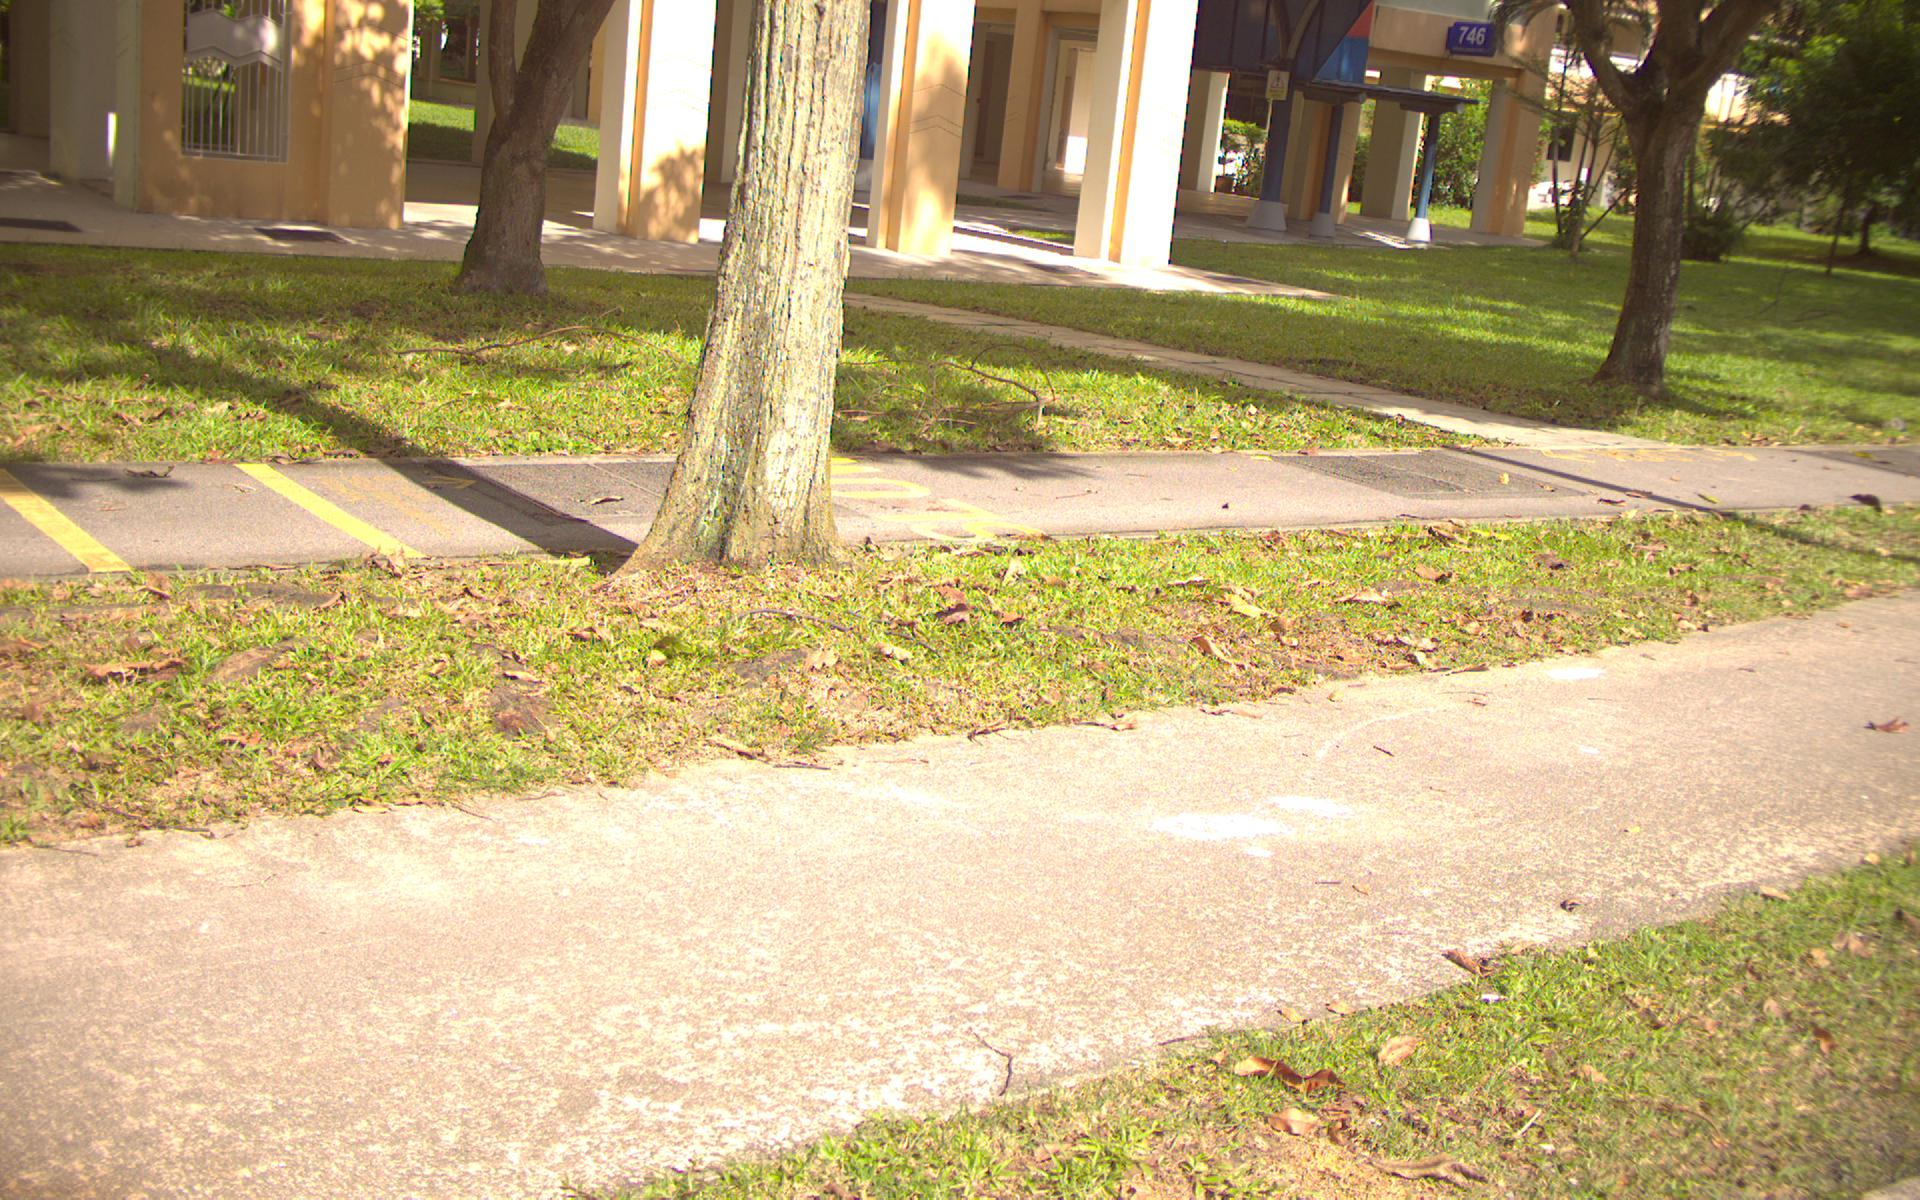pathway_low: (1, 841, 583, 1200), (1, 466, 1920, 514)
road_turf_low: (4, 583, 818, 776), (1, 264, 693, 453), (1410, 249, 1920, 400)
